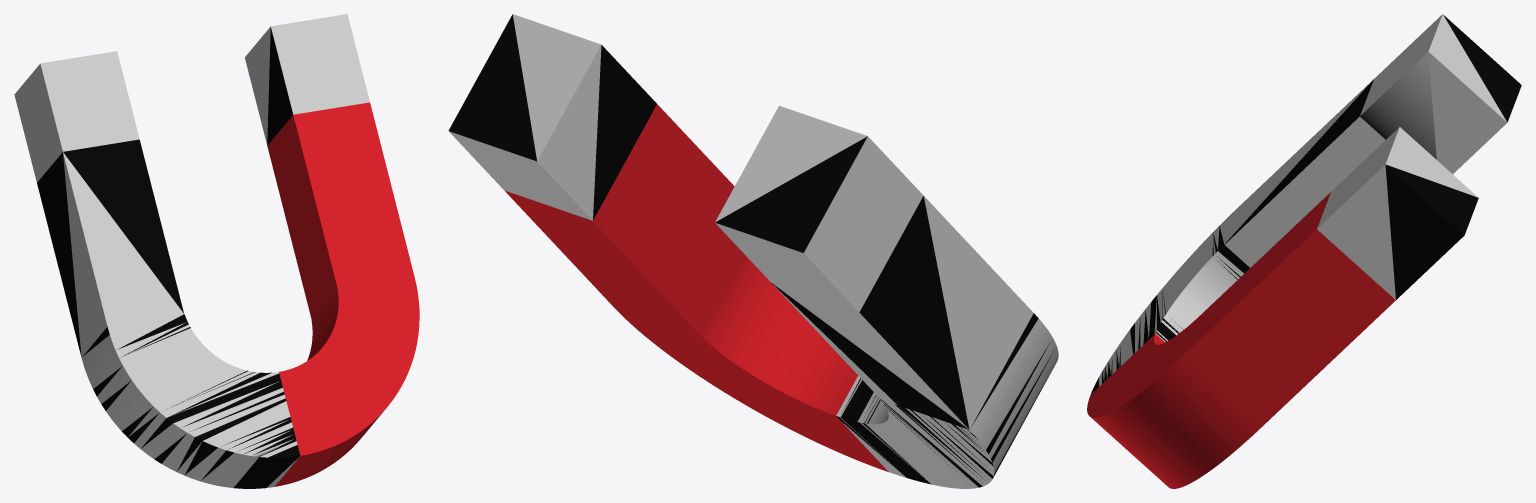
3 renders of one model, left to right at view 1: azimuth 30°, elevation 25°; view 2: azimuth 150°, elevation 25°; view 3: azimuth 270°, elevation 25°, orthographic. The views are drawn at different scales.
Parts seen in each view (by area): view 1: node_id178, node_id174, node_id180, node_id176; view 2: node_id174, node_id178, node_id176, node_id180; view 3: node_id174, node_id178, node_id176, node_id180.
Boxes of the visible parts, bbox=[...] form: node_id178: bbox=[37, 139, 300, 488]; node_id174: bbox=[267, 102, 419, 486]; node_id180: bbox=[14, 51, 139, 182]; node_id176: bbox=[244, 14, 369, 145]; node_id174: bbox=[504, 104, 888, 471]; node_id178: bbox=[771, 196, 1058, 488]; node_id176: bbox=[448, 14, 656, 220]; node_id180: bbox=[715, 105, 923, 312]; node_id174: bbox=[1087, 192, 1395, 488]; node_id178: bbox=[1091, 79, 1385, 393]; node_id176: bbox=[1317, 127, 1478, 299]; node_id180: bbox=[1360, 14, 1521, 174].
Bounding box in the file's own units: 0.0502 × 0.0542 × 0.0542.
